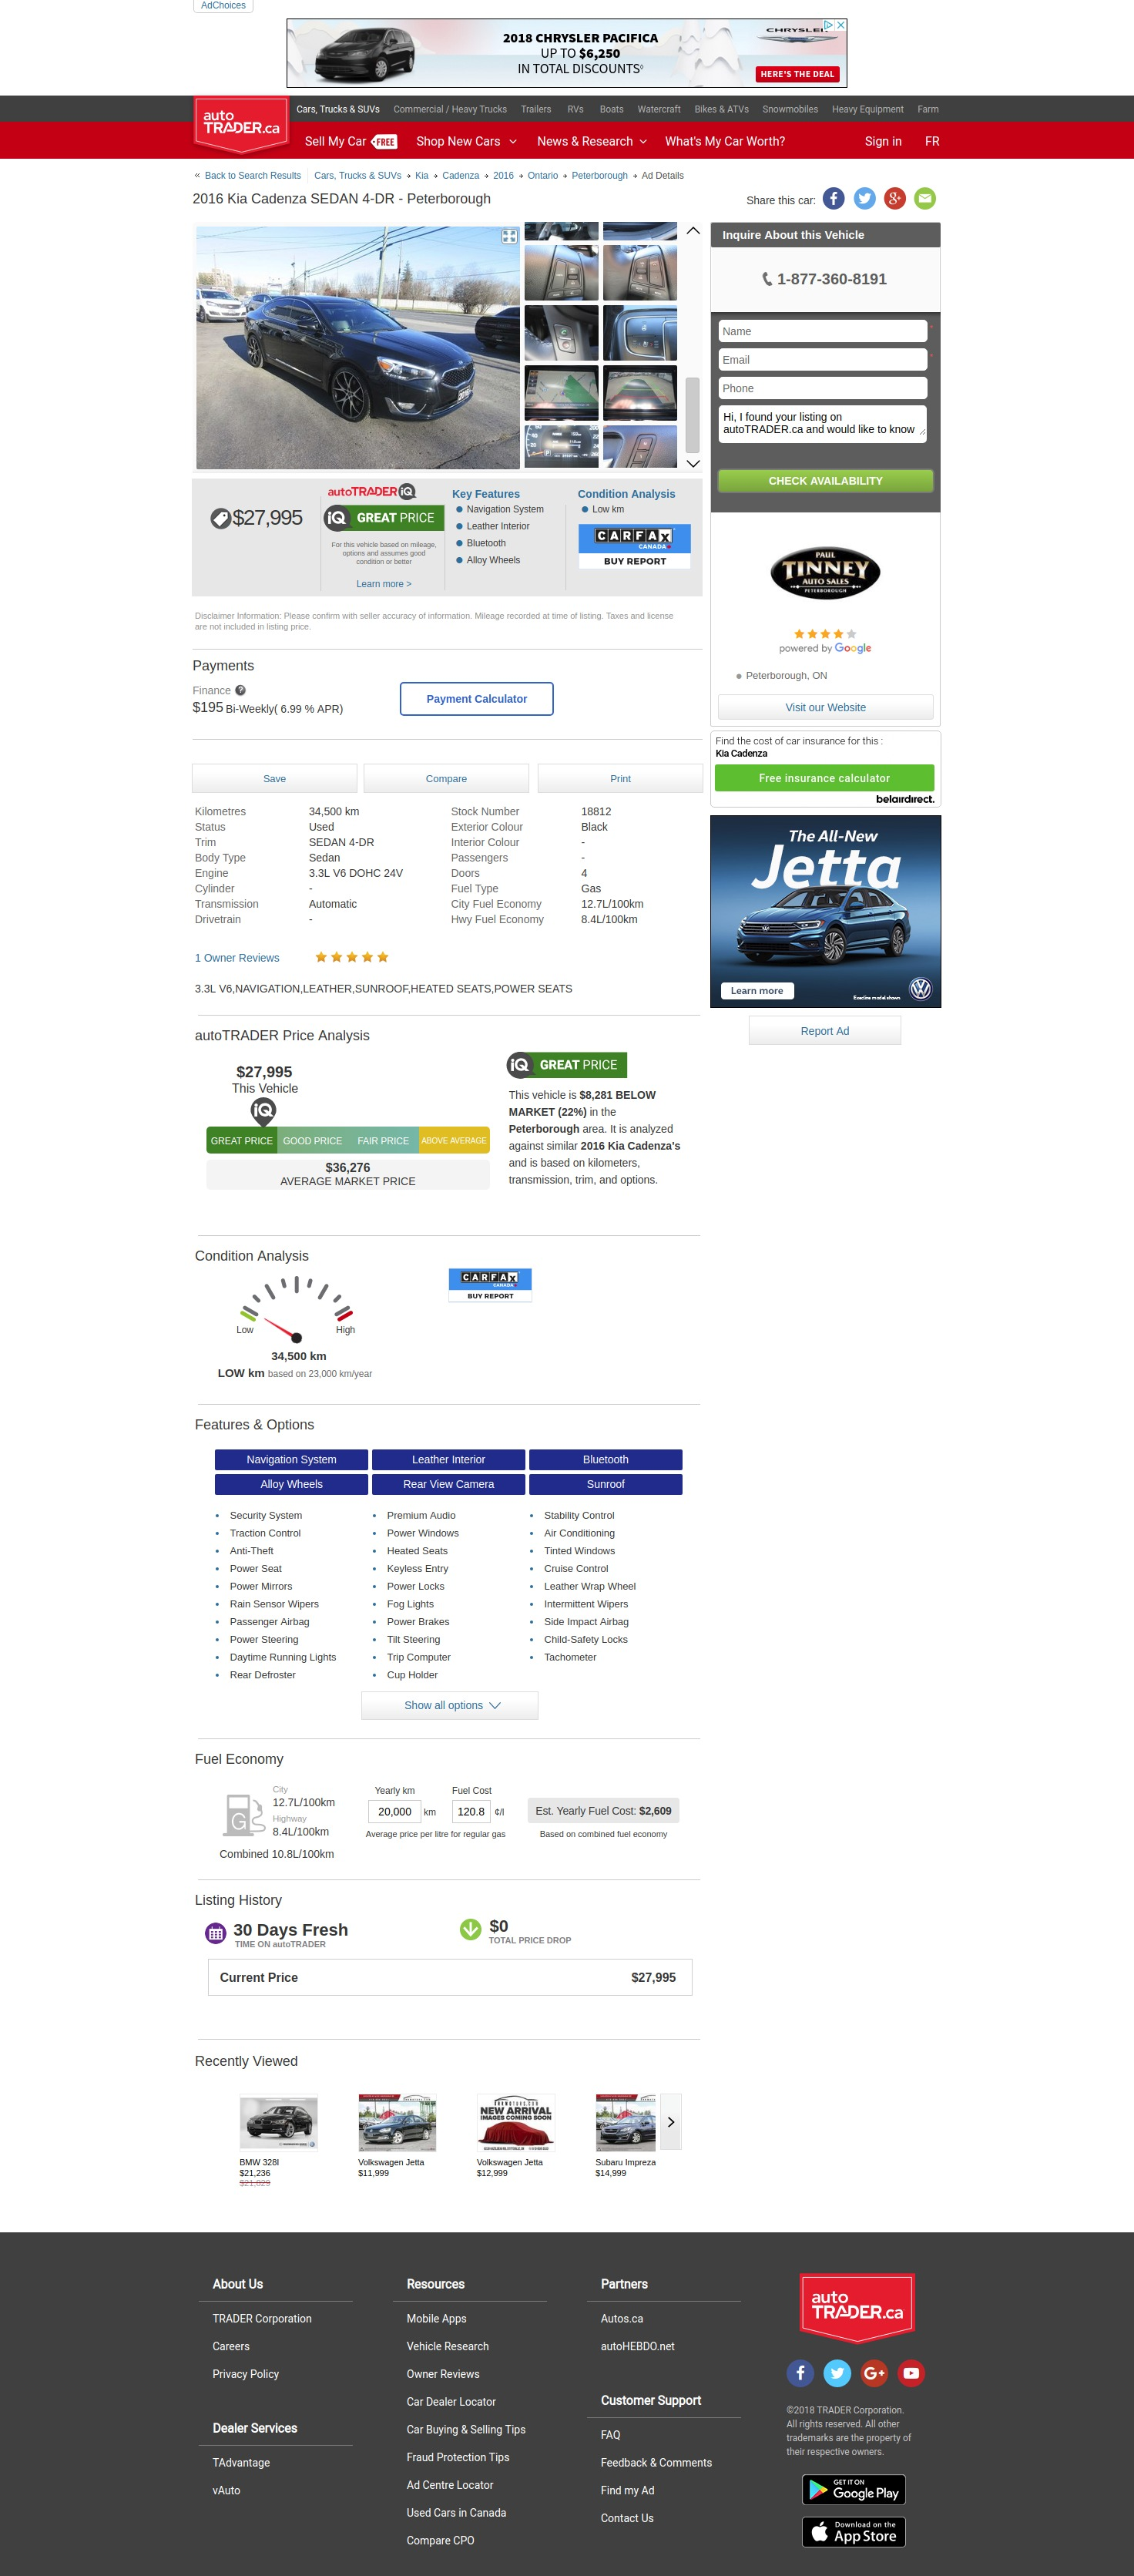car: (685, 458, 702, 470)
